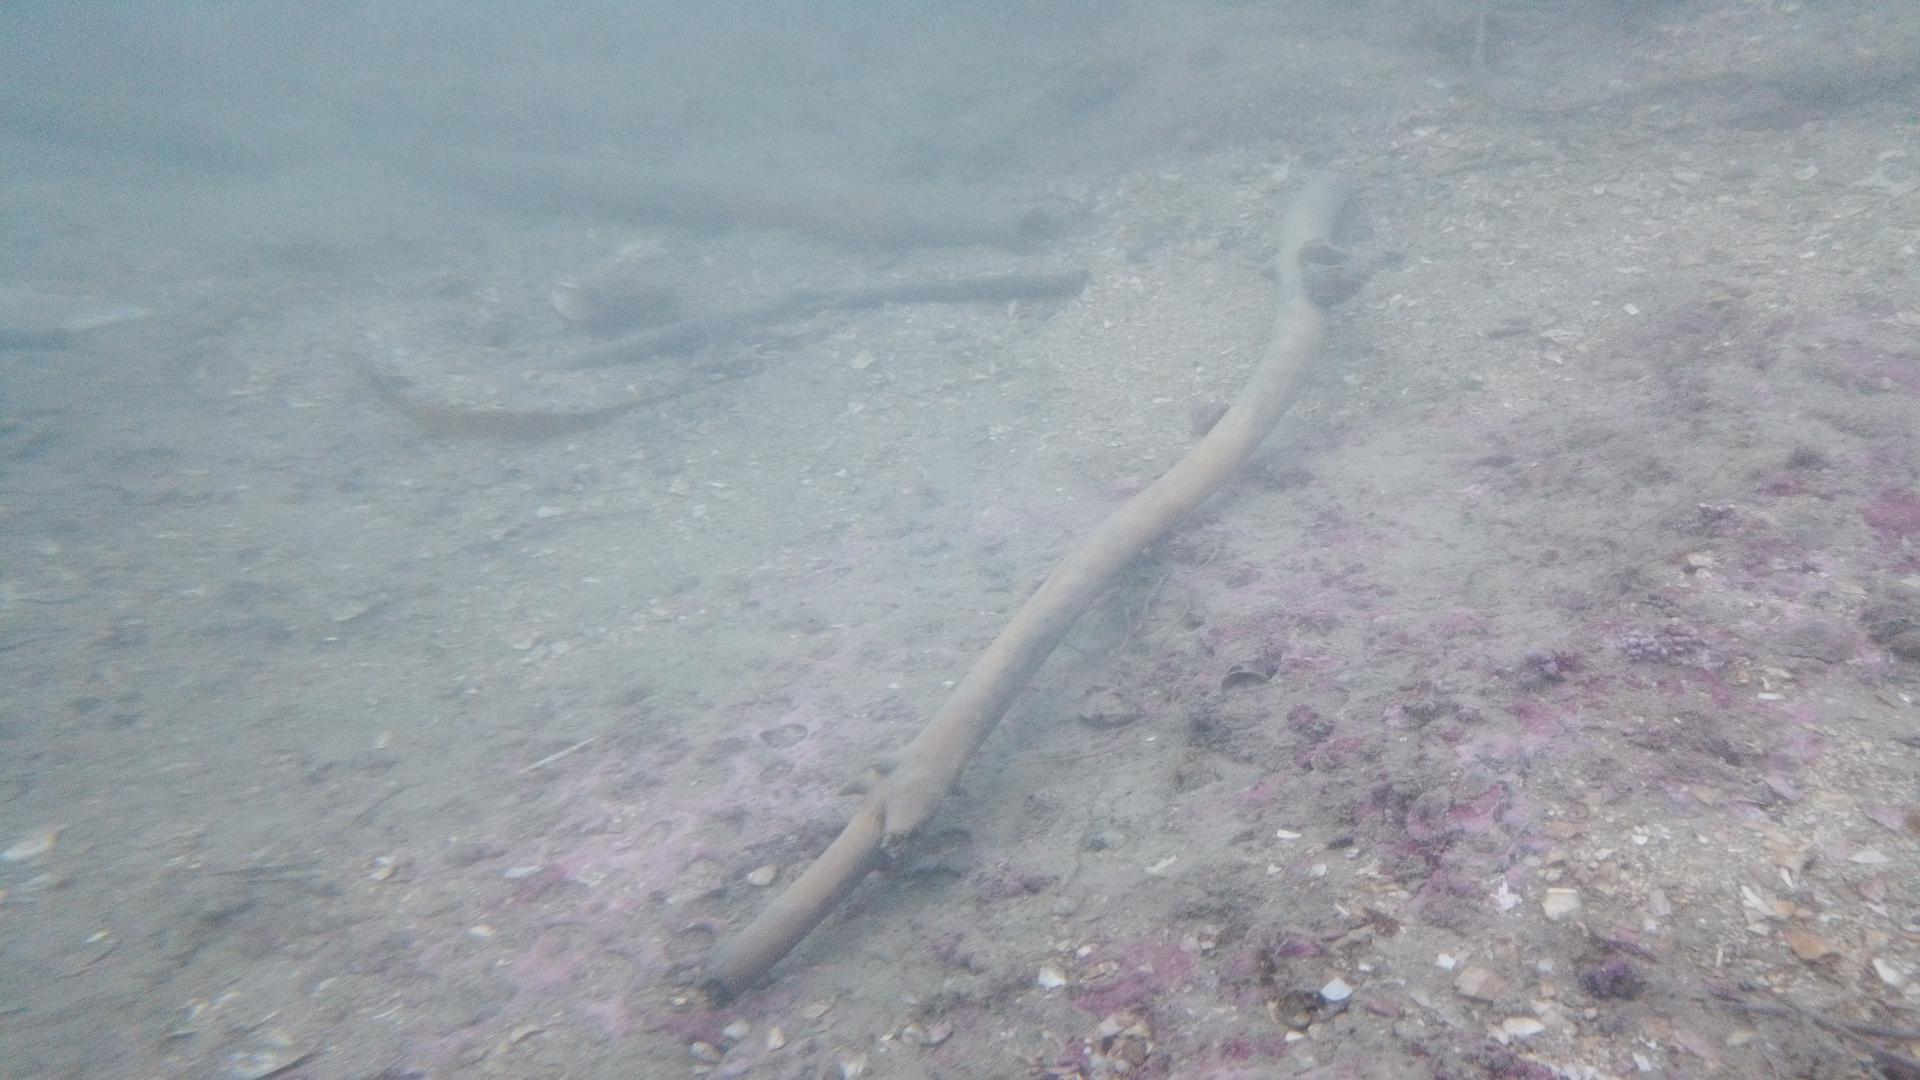wood: (694, 171, 1354, 1007)
